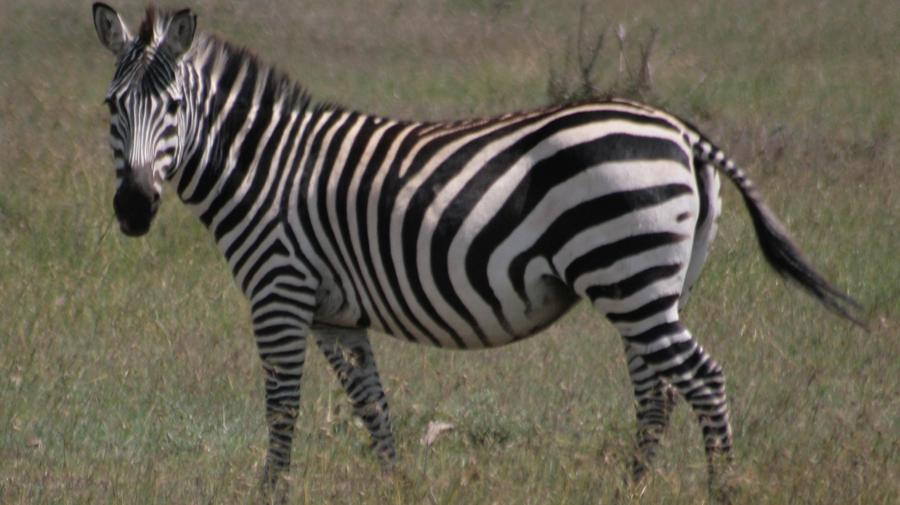zebra_plains: (205, 83, 677, 342)
